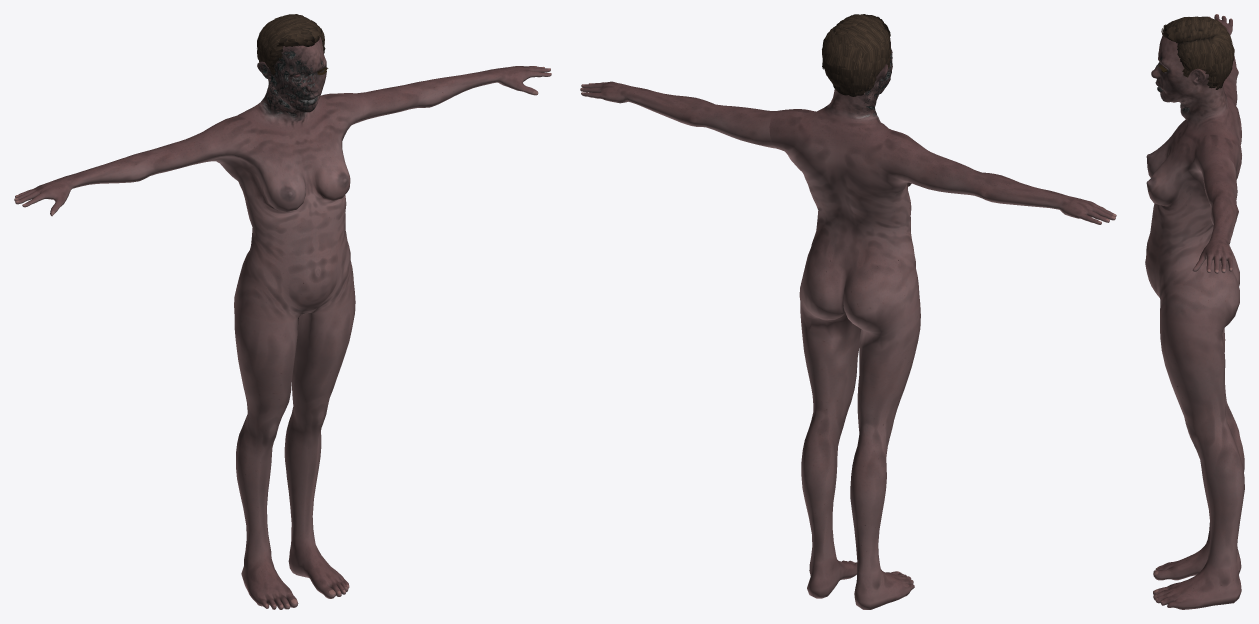
The model's file is pelucahombre1.obj.
3 views of the same model, side by side, from view 1: azimuth 30°, elevation 25°; view 2: azimuth 150°, elevation 25°; view 3: azimuth 270°, elevation 25° (orthographic).
Visible parts, largest first — view 1: Body, Hair; view 2: Body, Hair; view 3: Body, Hair.
Boxes of the visible parts, box(x1,y1,x2,y2) form: Body: box(14, 37, 551, 609); Hair: box(257, 14, 325, 75); Body: box(580, 41, 1116, 609); Hair: box(822, 14, 891, 96); Body: box(1145, 14, 1244, 609); Hair: box(1161, 16, 1234, 89).
Size of the model in its own units: 174 by 178 by 28.12.
Materials: 2 (2 with a texture image).
